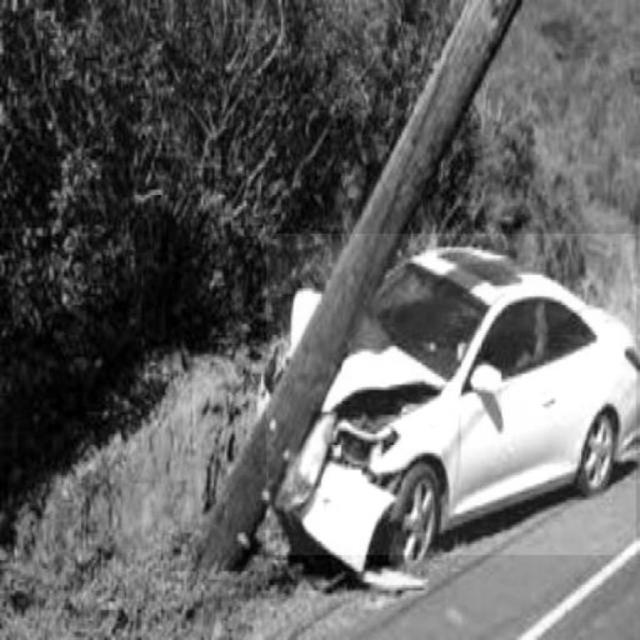accident: (267, 234, 637, 554)
